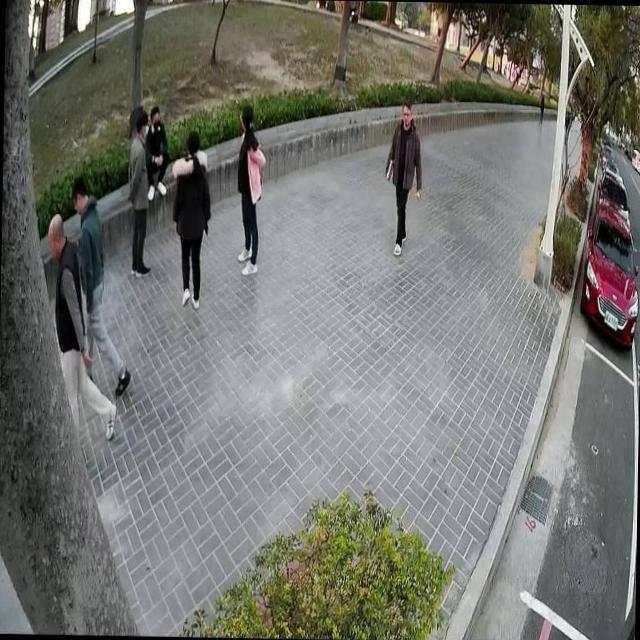person: (40, 205, 121, 451), (64, 167, 137, 401), (164, 128, 215, 312), (378, 98, 425, 262), (232, 98, 269, 282), (120, 104, 156, 286), (143, 97, 173, 201), (536, 90, 546, 126)
